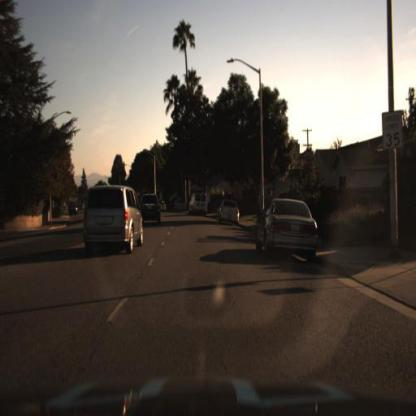car: (82, 184, 146, 255), (257, 194, 321, 260), (139, 194, 162, 228), (189, 190, 210, 218), (220, 201, 241, 224)
